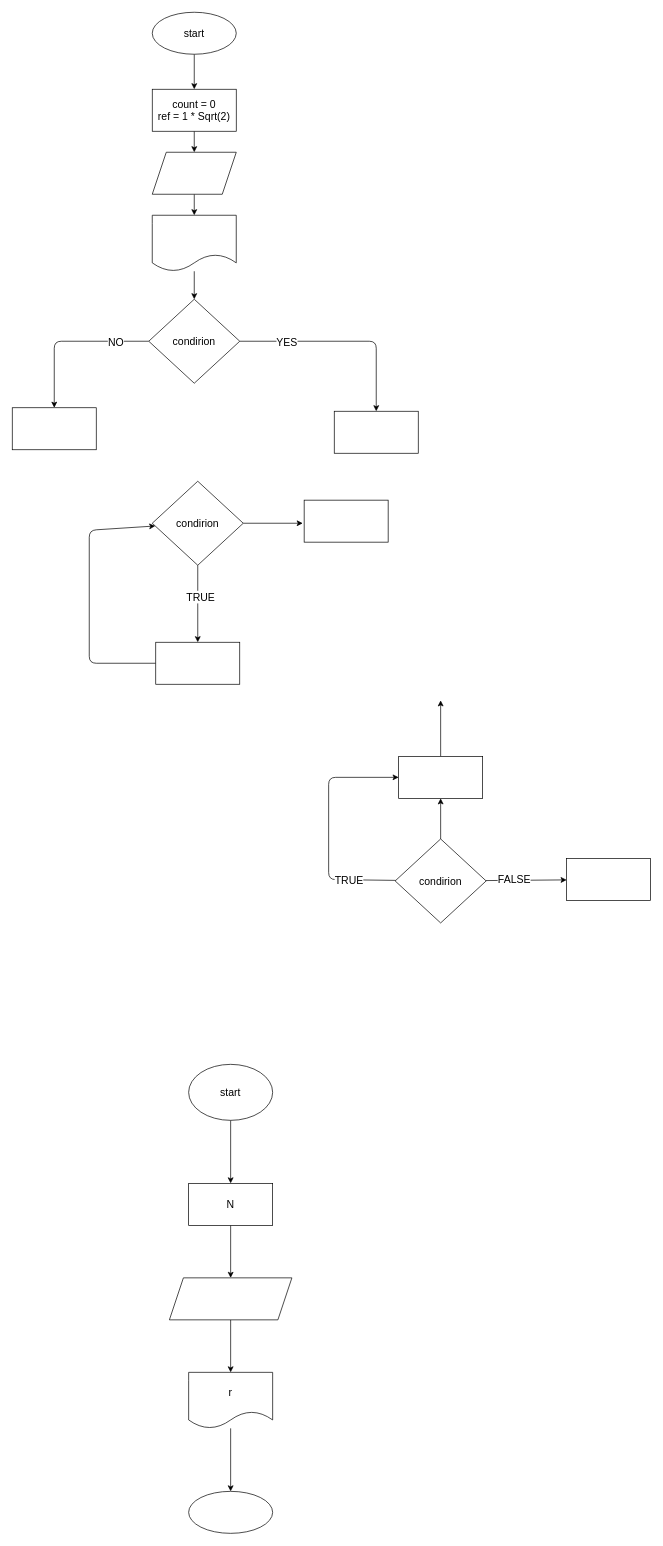
This 663x1546 diagram has some shape labels left out. The shapes that lost their labels are listed below. From the top down, each one's centre as x and y in pixels, then its label:
point 194,173: ВВОД count
point 194,243: ВЫВОД res
point 230,1298: r = random(1, N)
point 230,1512: end
